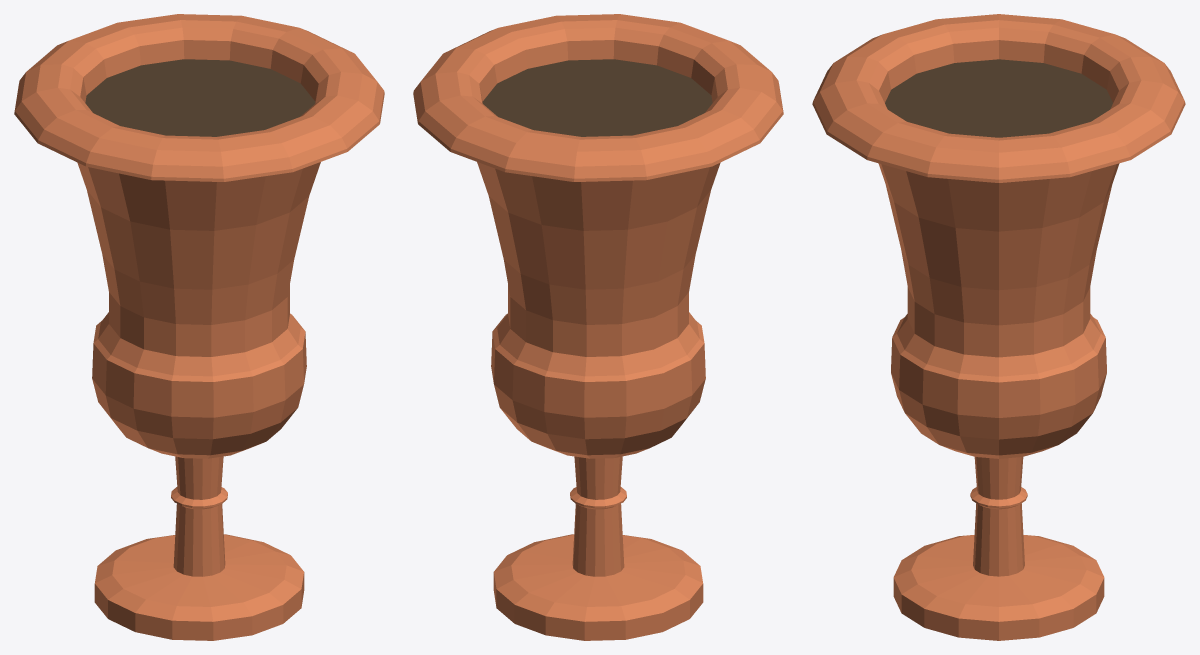
The model's file is pot_5.fbx.
3 views of the same model, side by side, from view 1: azimuth 30°, elevation 25°; view 2: azimuth 150°, elevation 25°; view 3: azimuth 270°, elevation 25° (orthographic).
Parts seen in each view (by area): view 1: pot; view 2: pot; view 3: pot.
Part boxes in pixels (<box>): pot: <box>14,14,384,640</box>; pot: <box>413,14,783,640</box>; pot: <box>812,14,1185,640</box>.
Size of the model in its own units: 354 by 540 by 354.
